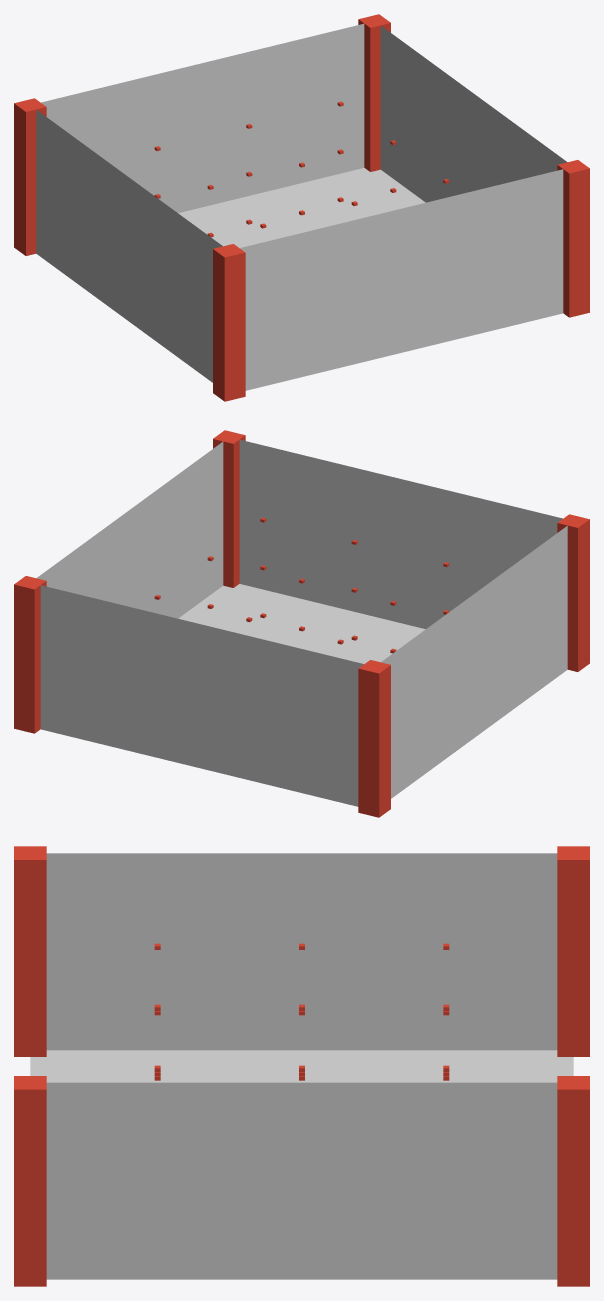
The model's file is sound_room.fbx.
The picture shows the model from 3 angles, top to bottom: view 1: azimuth 30°, elevation 25°; view 2: azimuth 150°, elevation 25°; view 3: azimuth 270°, elevation 25°; orthographic projection. The views are drawn at different scales.
Parts seen in each view (by area): view 1: Plane, Cube.003, Cube.002, Cube.001, Cube; view 2: Plane, Cube.001, Cube, Cube.003, Cube.002; view 3: Plane, Cube, Cube.001, Cube.002, Cube.003.
Boxes of the visible parts, bbox=[...] form: Plane: bbox=[36, 23, 567, 390]; Cube.003: bbox=[213, 244, 245, 401]; Cube.002: bbox=[557, 160, 589, 317]; Cube.001: bbox=[14, 98, 46, 255]; Cube: bbox=[358, 14, 390, 171]; Plane: bbox=[36, 439, 567, 806]; Cube.001: bbox=[358, 660, 390, 817]; Cube: bbox=[14, 576, 46, 733]; Cube.003: bbox=[557, 514, 589, 671]; Cube.002: bbox=[213, 430, 245, 587]; Plane: bbox=[30, 853, 573, 1279]; Cube: bbox=[557, 1076, 589, 1286]; Cube.001: bbox=[557, 846, 589, 1056]; Cube.002: bbox=[14, 1076, 46, 1286]; Cube.003: bbox=[14, 846, 46, 1056].
Size of the model in its own units: 530 by 200 by 530.
